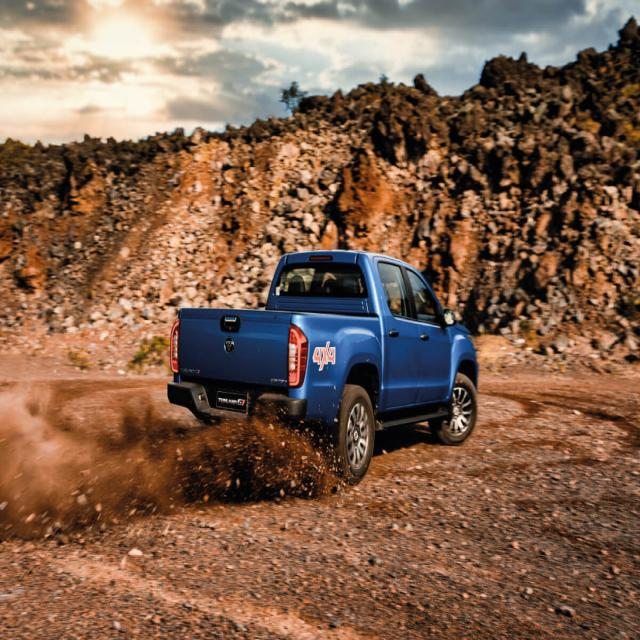CMT: (179, 244, 480, 462)
